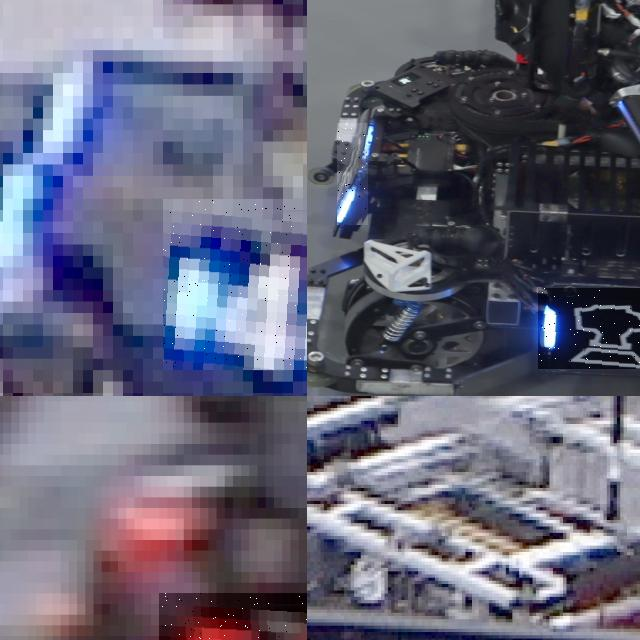B4: (163, 198, 307, 370)
Bs: (538, 288, 640, 368), (337, 123, 368, 225)
